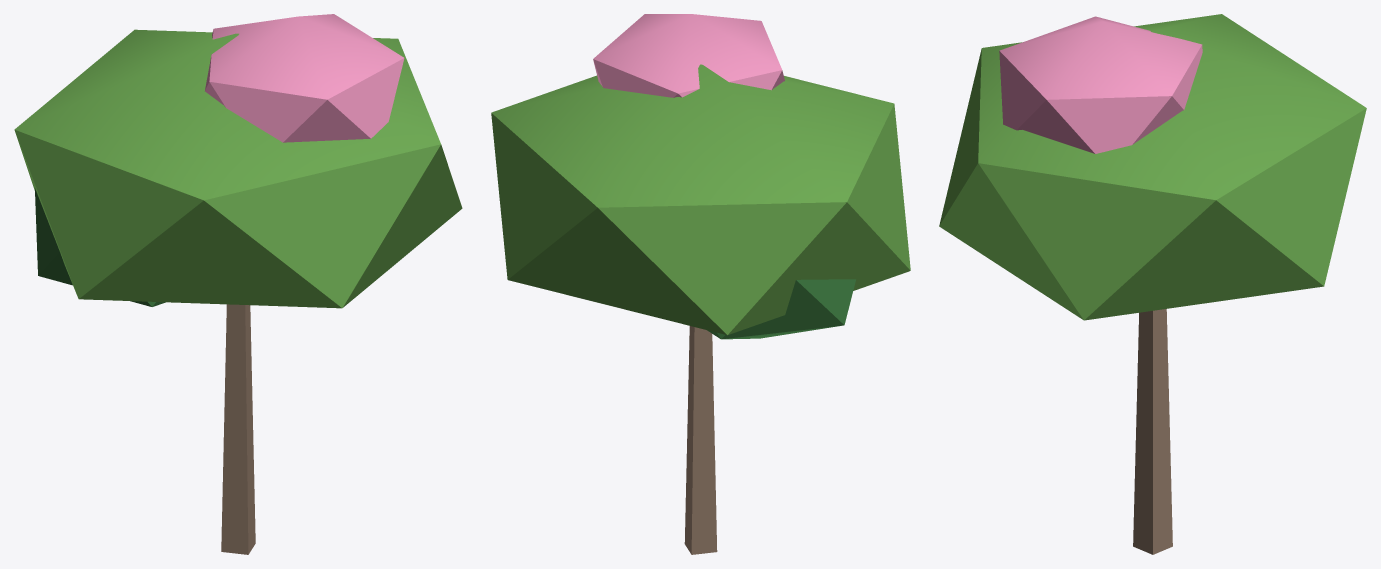
The model's file is tree_small_far.glb.
The picture shows the model from 3 angles, left to right: view 1: azimuth 30°, elevation 25°; view 2: azimuth 150°, elevation 25°; view 3: azimuth 270°, elevation 25°; orthographic projection. The views are drawn at different scales.
Visible parts, largest first — view 1: tree_small_far; view 2: tree_small_far; view 3: tree_small_far.
Part boxes in pixels (box(x1,y1,x2,y2)): tree_small_far: box(14, 14, 462, 554); tree_small_far: box(491, 14, 910, 554); tree_small_far: box(939, 14, 1366, 554).
Bounding box in the file's own units: 4.44 × 6 × 4.29.
Materials: 1 (1 with a texture image).
